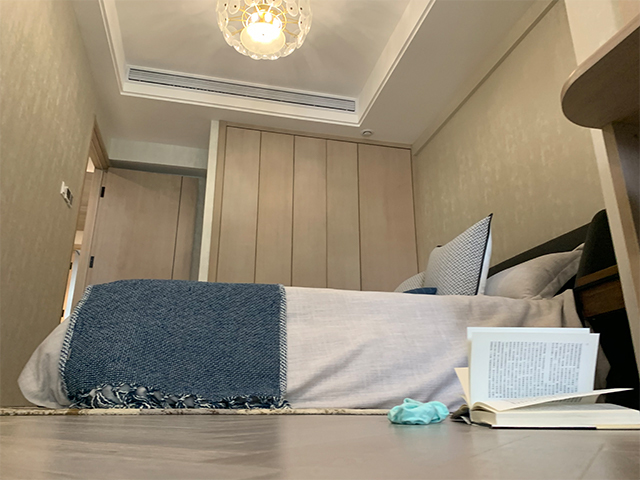bed: (15, 207, 619, 411)
book: (449, 324, 640, 431)
cabinet: (574, 261, 640, 415)
carpet: (1, 407, 397, 418)
socks: (386, 395, 451, 427)
